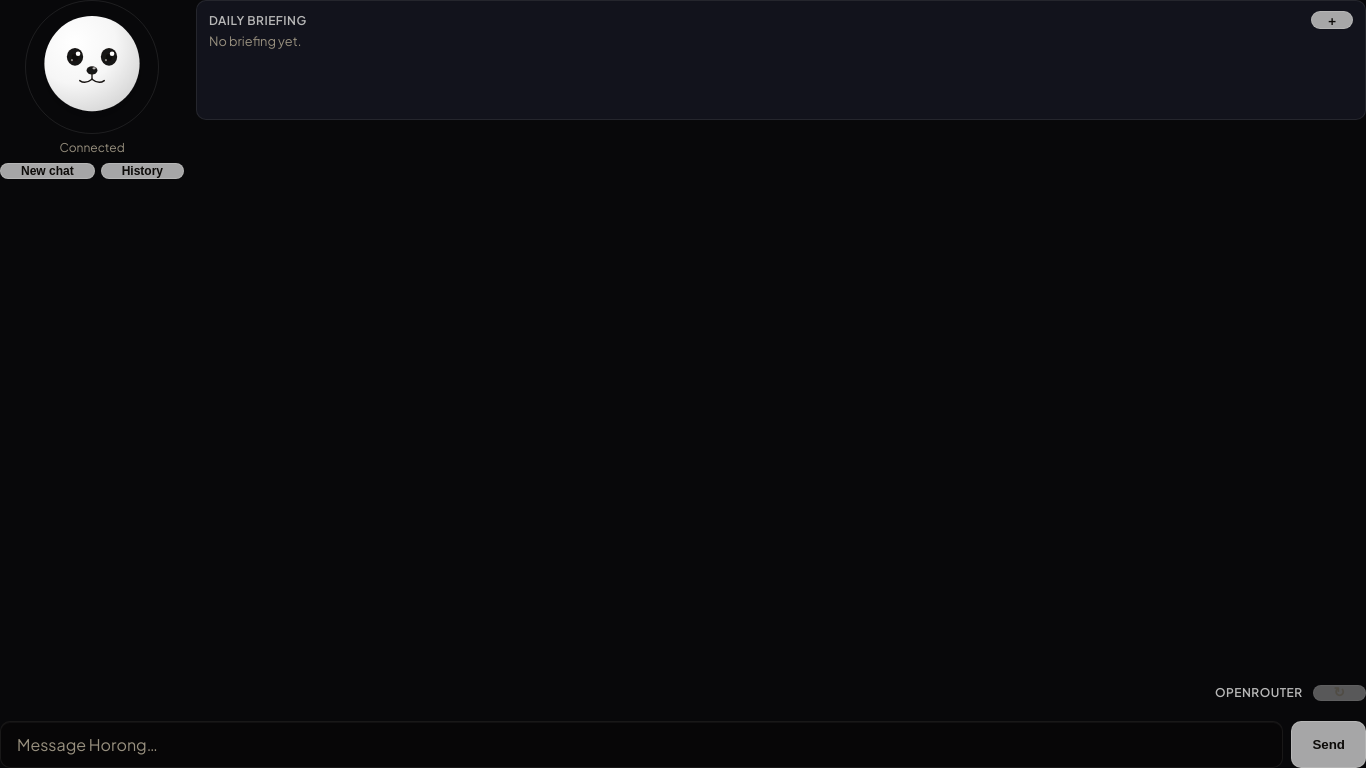
ChatPanel › opens the history panel, requests the session list, and lists entries by title
Click the button "History". click: [142, 171]
box: [101, 163, 184, 179]
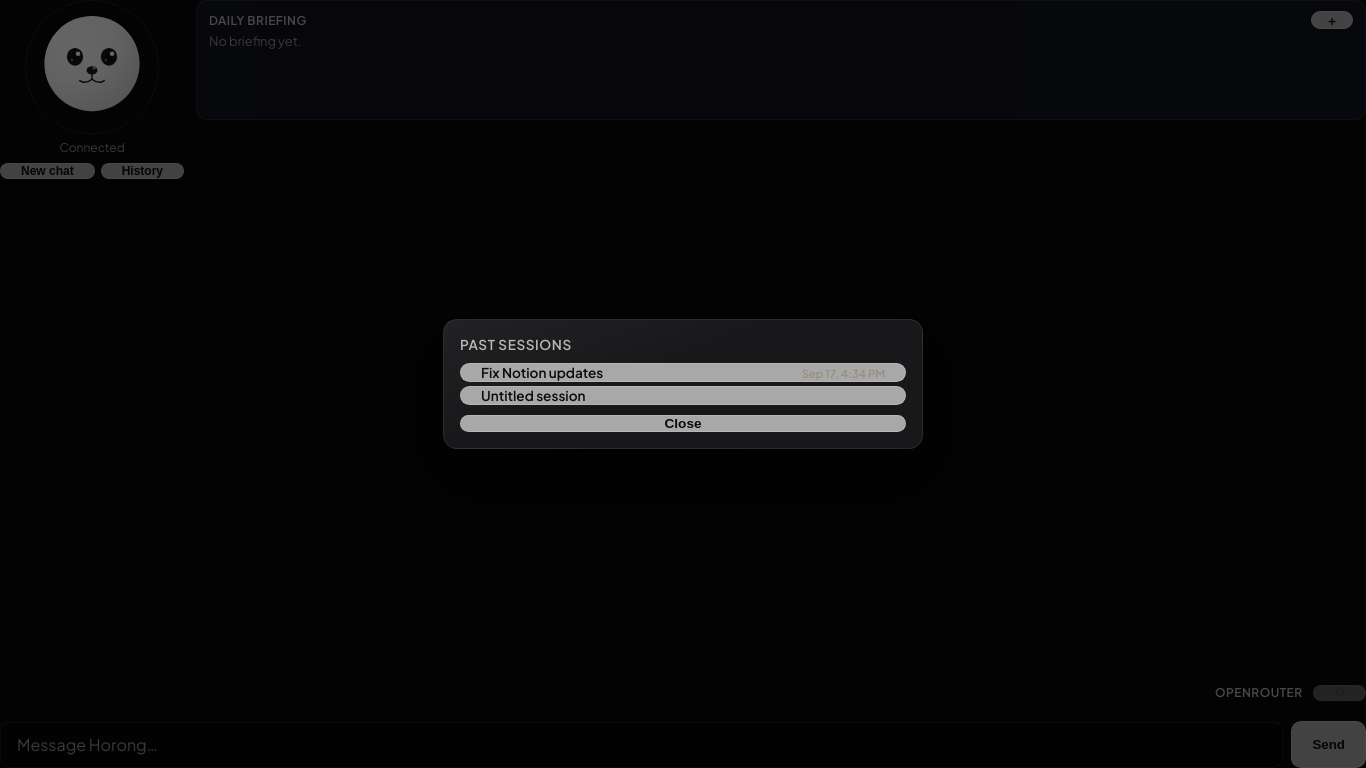
Now the text "Fix Notion updates" is shown, box [481, 364, 603, 381]
Now the text "Untitled session" is shown, box [481, 387, 586, 404]
